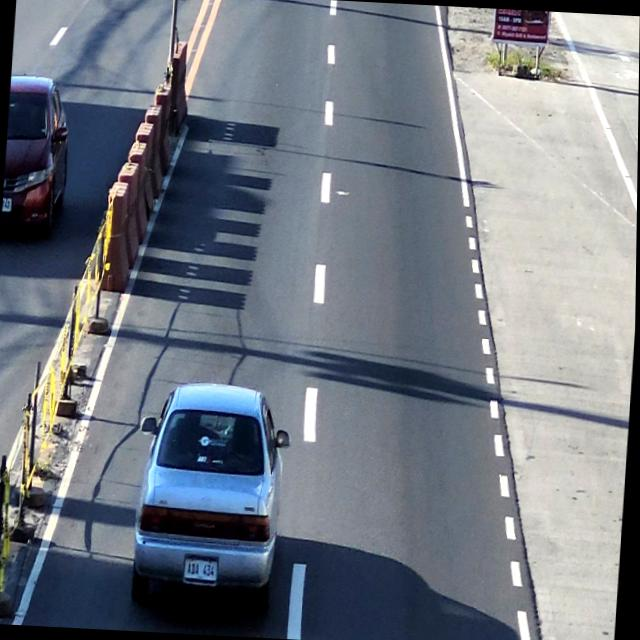Car: (130, 384, 290, 612)
License-Plate: (185, 556, 218, 586)
